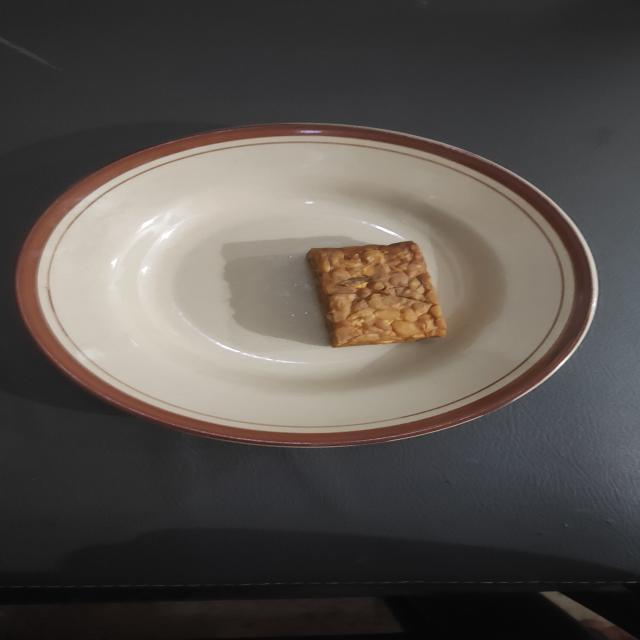tempe_goreng: (306, 241, 446, 347)
